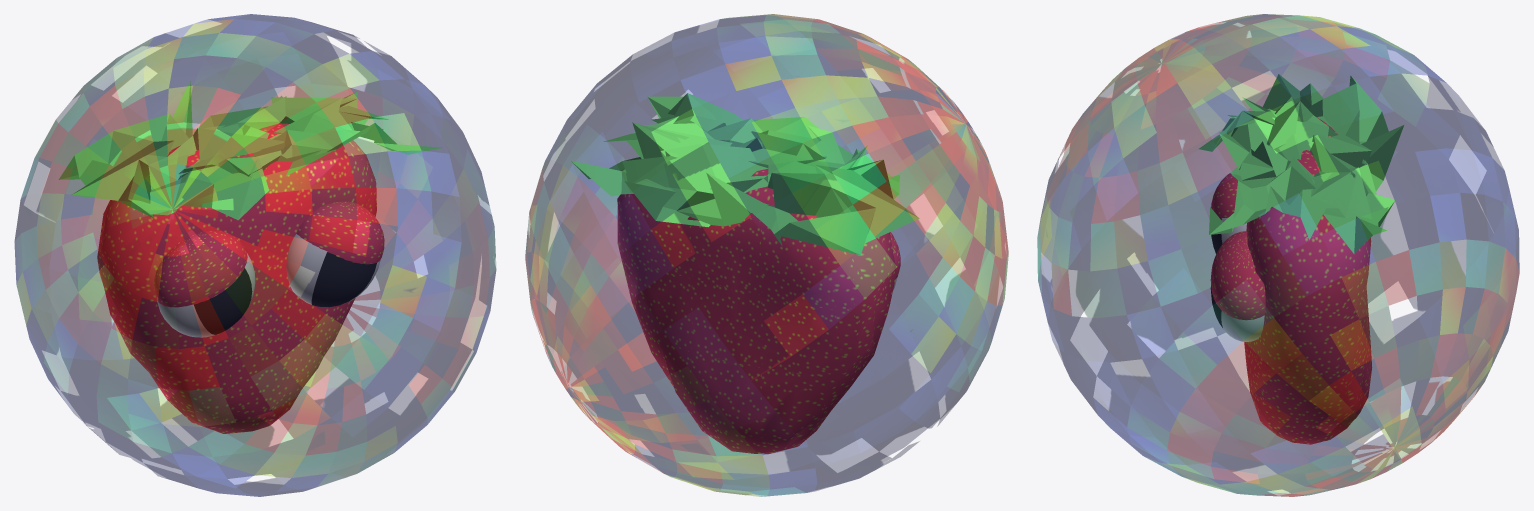
Rendered from strawberry.glb.
3 views of the same model, side by side, from view 1: azimuth 30°, elevation 25°; view 2: azimuth 150°, elevation 25°; view 3: azimuth 270°, elevation 25° (orthographic).
Parts seen in each view (by area): view 1: Sphere.010, Plane; view 2: Sphere.010, Plane; view 3: Sphere.010, Plane.
Part boxes in pixels (bbox=[...]): Sphere.010: bbox=[14, 14, 496, 496]; Plane: bbox=[59, 81, 442, 433]; Sphere.010: bbox=[525, 14, 1008, 496]; Plane: bbox=[571, 93, 919, 453]; Sphere.010: bbox=[1037, 14, 1519, 496]; Plane: bbox=[1199, 74, 1403, 444].
Size of the model in its own units: 6.35 by 6.37 by 6.34.
5 materials, 2 textured.
